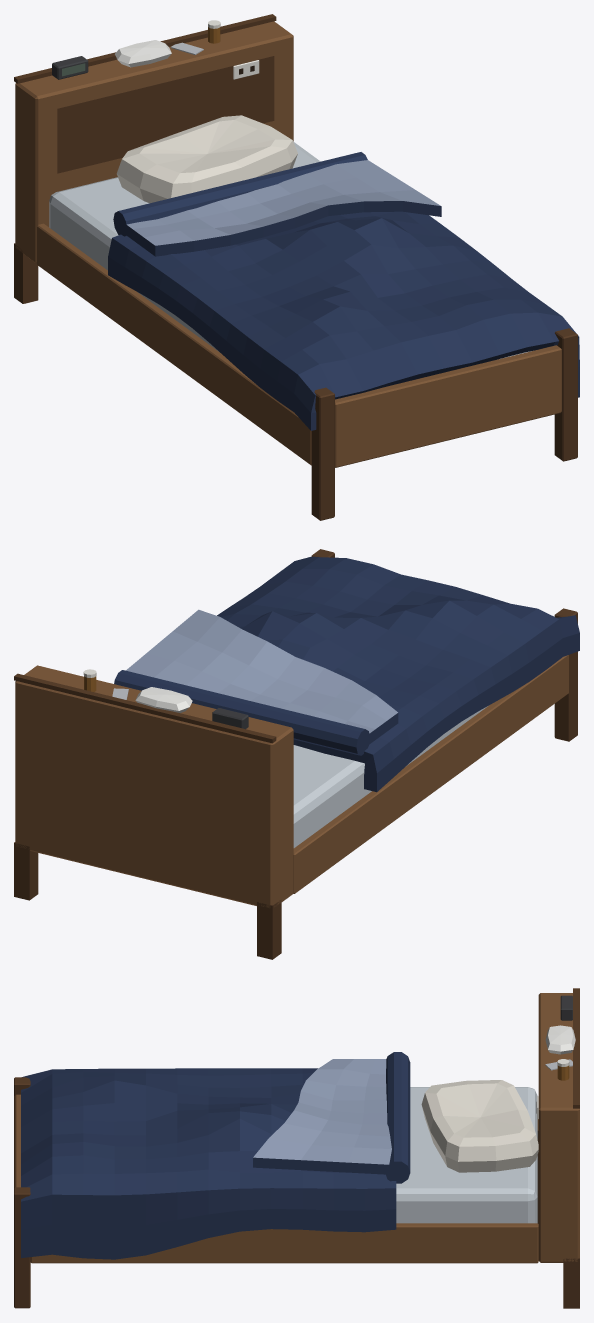
File: bed.glb
3 views of the same model, one above another, from view 1: azimuth 30°, elevation 25°; view 2: azimuth 150°, elevation 25°; view 3: azimuth 270°, elevation 25° (orthographic). The views are drawn at different scales.
Parts seen in each view (by area): view 1: body; view 2: body; view 3: body.
Part boxes in pixels (x1,y1,x2,y2): body: [14, 14, 579, 520]; body: [14, 549, 579, 959]; body: [14, 988, 579, 1308].
Bounding box in the file's own units: 1.04 × 0.867 × 2.05.
